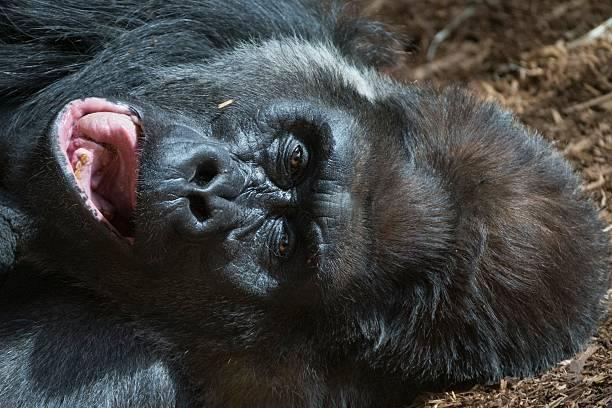gorille_Autres: (6, 0, 592, 408)
